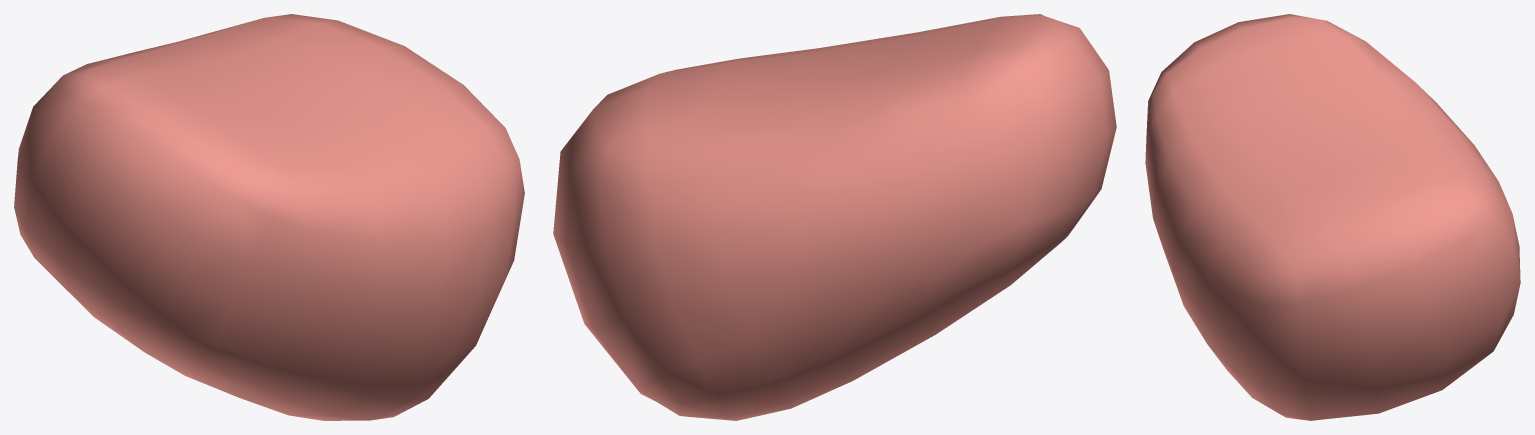
Rendered from mixamo_humanoid_surface_rightHandThumb3.fbx.
3 renders of one model, left to right at view 1: azimuth 30°, elevation 25°; view 2: azimuth 150°, elevation 25°; view 3: azimuth 270°, elevation 25°, orthographic. The views are drawn at different scales.
Parts seen in each view (by area): view 1: surface_RightHandThumb3; view 2: surface_RightHandThumb3; view 3: surface_RightHandThumb3.
Part boxes in pixels (x1,y1,x2,y2): surface_RightHandThumb3: (14,14,524,420); surface_RightHandThumb3: (553,14,1116,420); surface_RightHandThumb3: (1145,14,1520,420).
Size of the model in its own units: 2.34 by 1.85 by 2.12.
